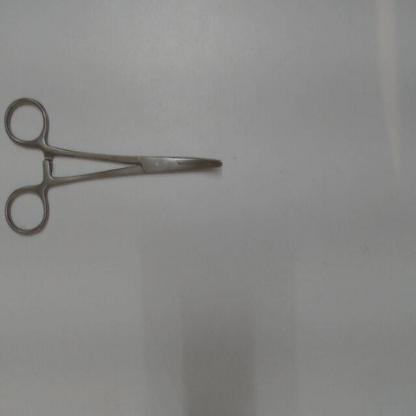Crile Artery Forceps: (1, 90, 227, 238)
